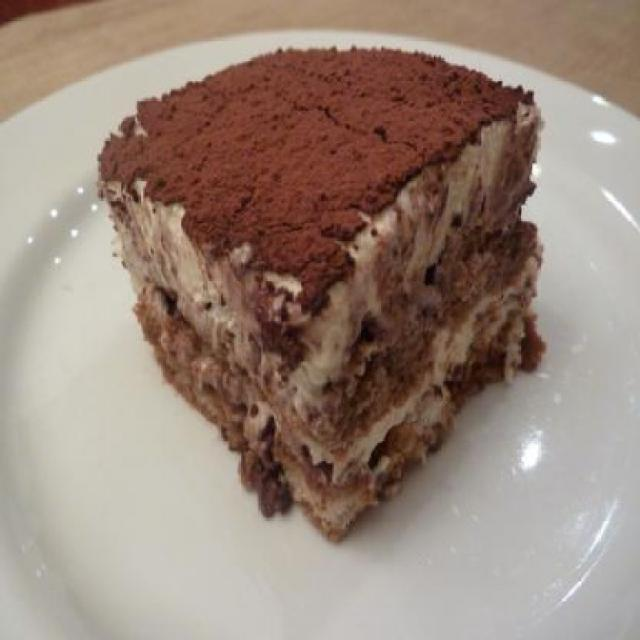Tiramisu: (99, 37, 579, 514)
